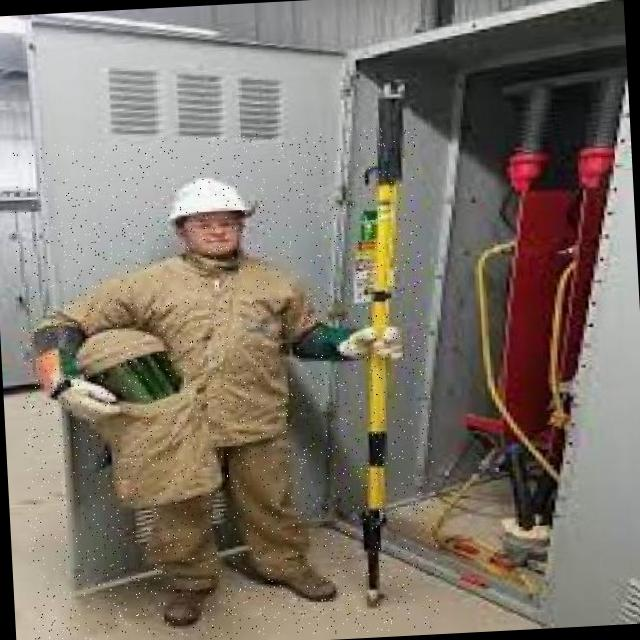boots: (154, 575, 228, 628), (270, 561, 347, 608)
gloves: (52, 372, 119, 431), (338, 322, 408, 366)
no-vest: (132, 254, 298, 433)
